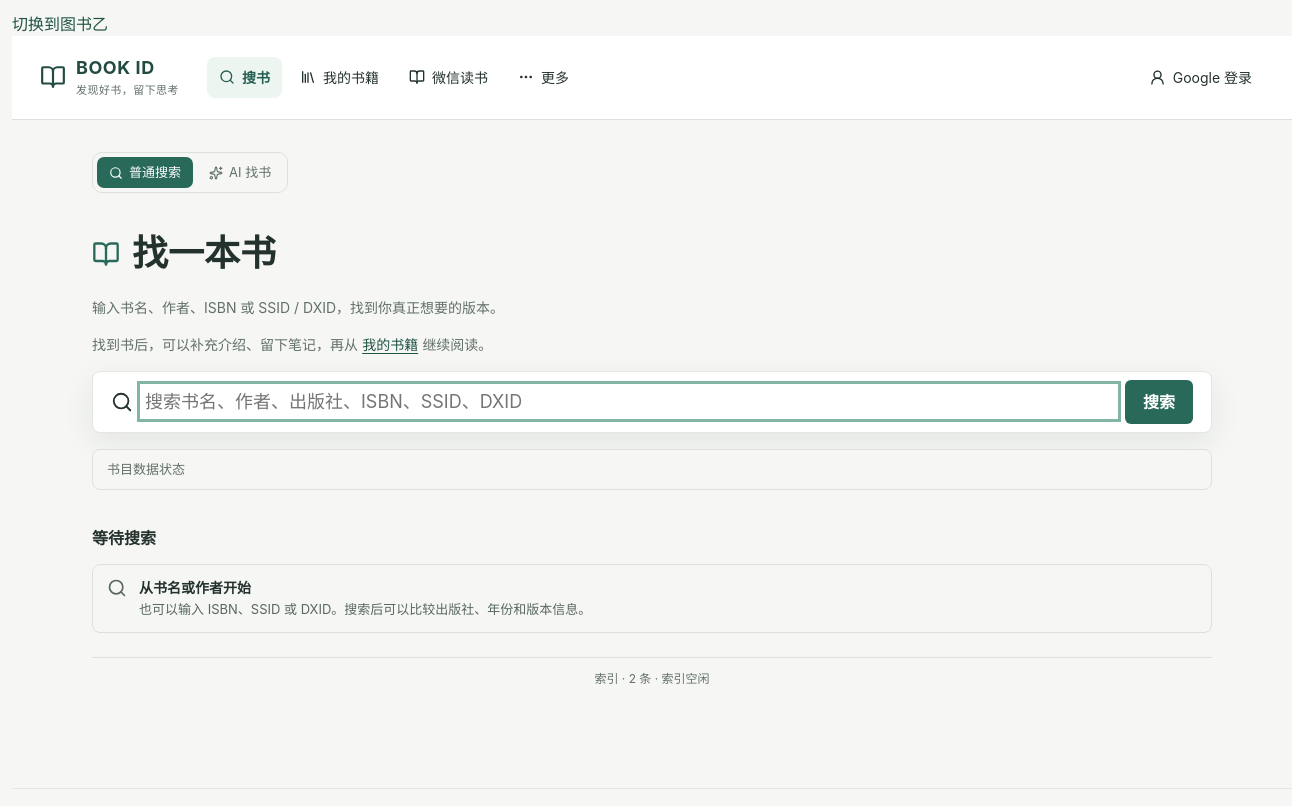
Test: P1-A Book Detail route integration › keeps the AI route through sign-in and hides the ordinary results section
Click the tab "AI 找书".
click(240, 173)  # box 197,157 -> 283,188
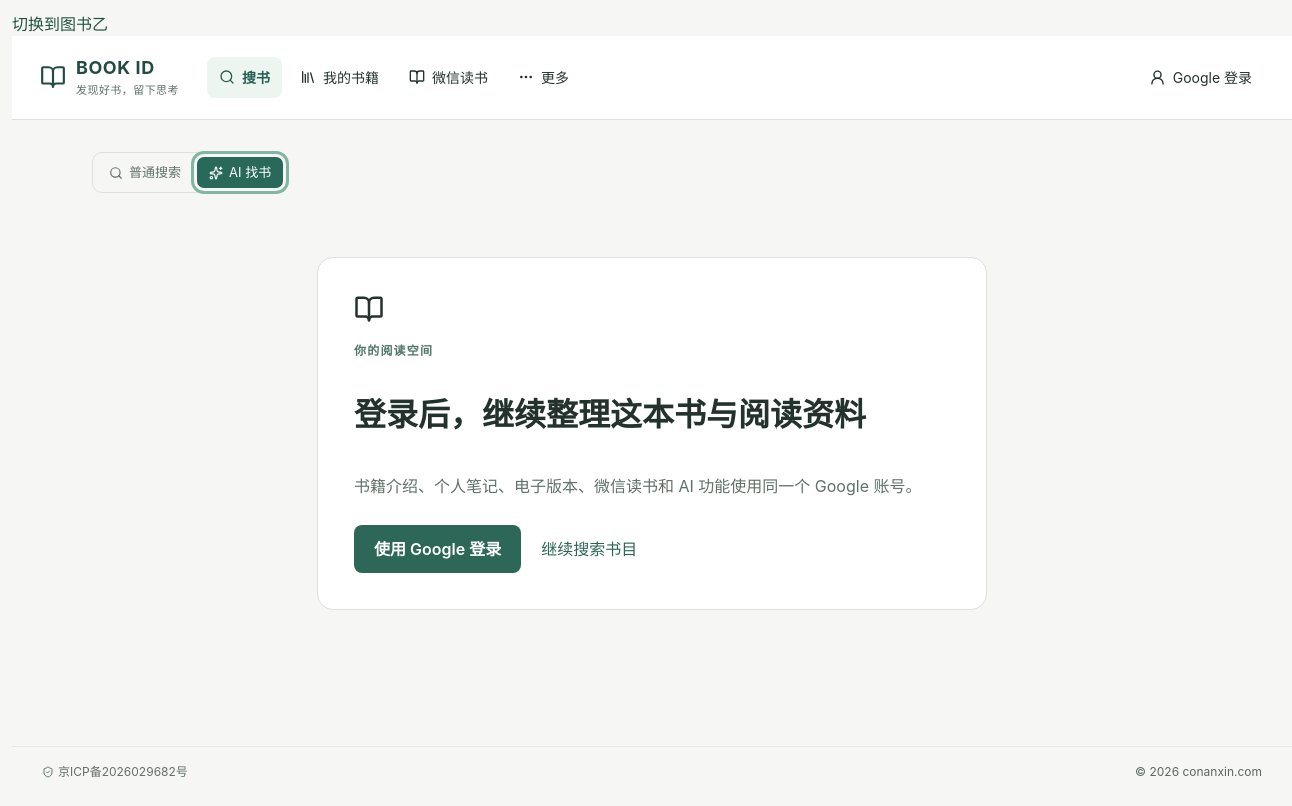
Expected: the text "等待搜索" is gone
Click the tab "普通搜索".
click(145, 173)  # box 97,157 -> 193,188
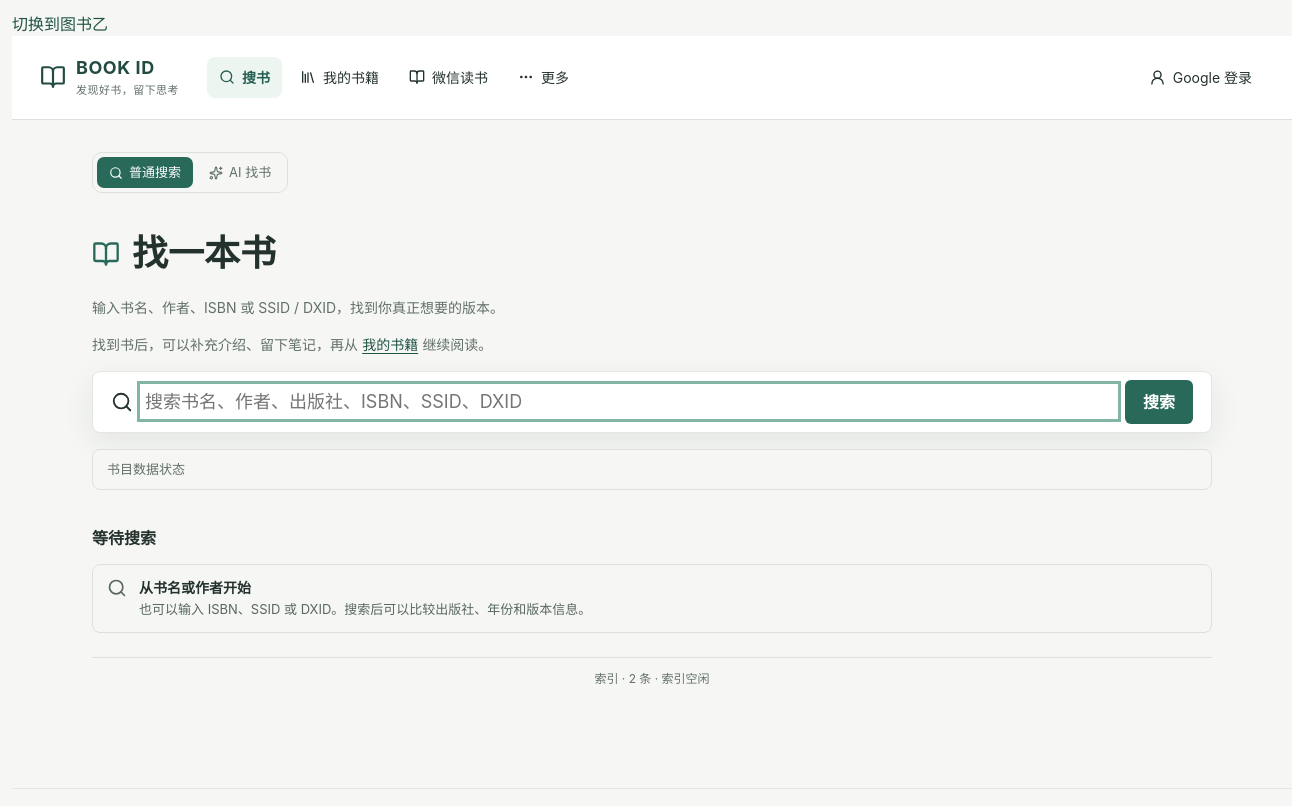
Expected: the form is shown, 92,371 -> 1212,433
